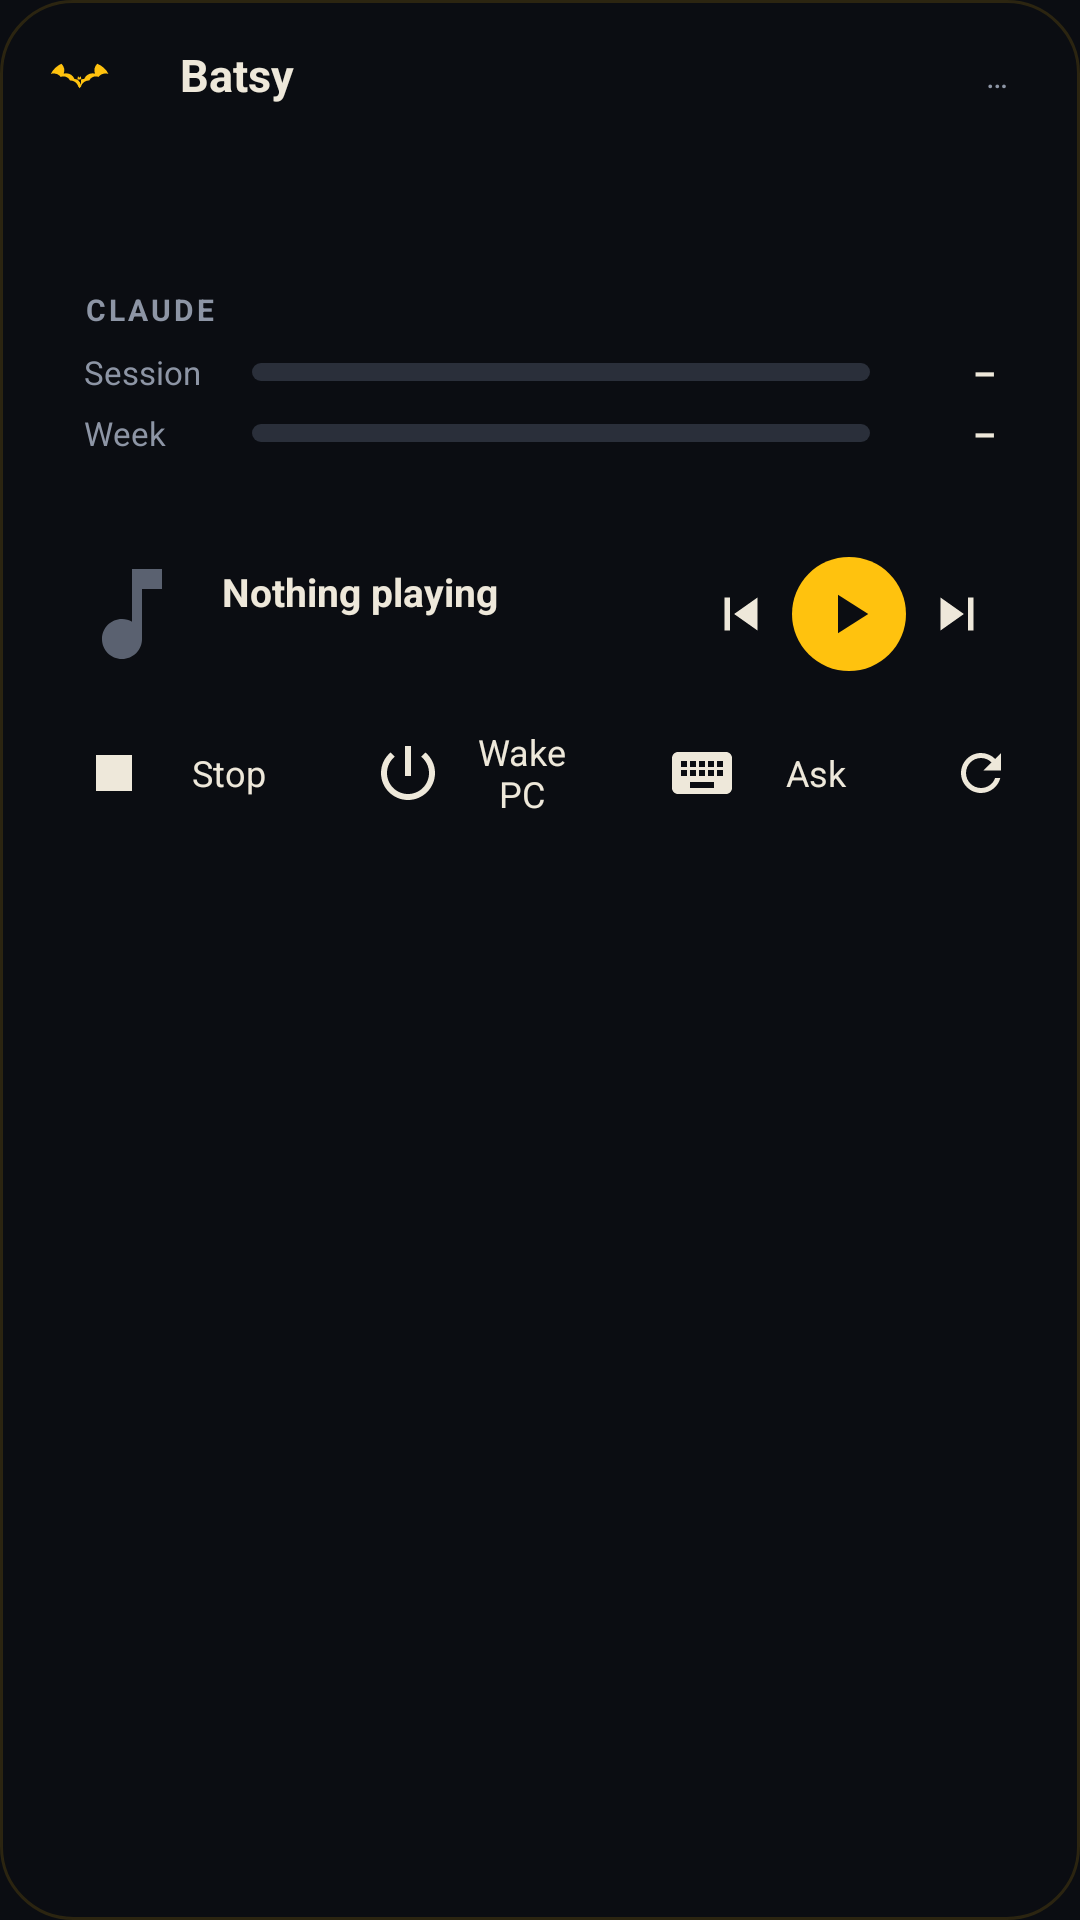

Screen size 1080w x 1920h. Icon name, then its box in pixels as (x1, y1, x2, y2):
Album art: (102, 569, 162, 659)
Next: (940, 597, 974, 631)
Play or pause: (792, 557, 906, 671)
Previous: (724, 597, 758, 631)
Refresh: (961, 753, 1001, 793)
